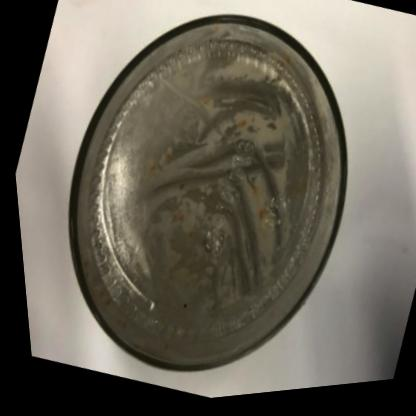Glass: (65, 20, 344, 375)
